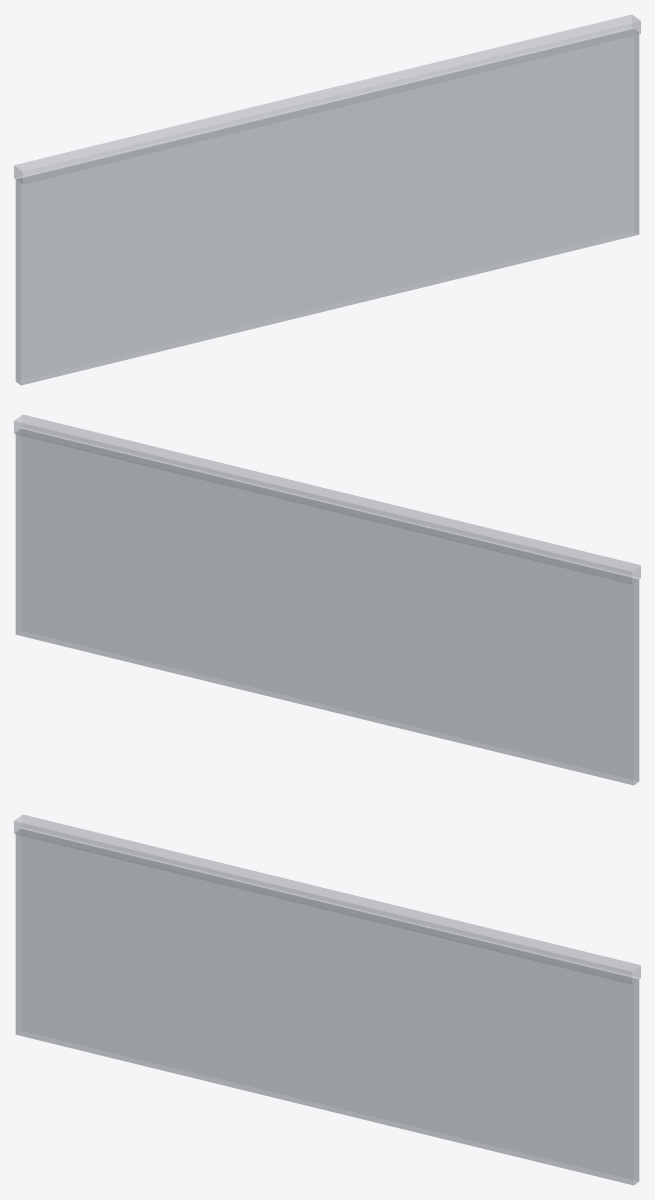
Rendered from rink_glass_straight_4x4.glb.
3 views of the same model, one above another, from view 1: azimuth 30°, elevation 25°; view 2: azimuth 150°, elevation 25°; view 3: azimuth 330°, elevation 25° (orthographic).
Visible parts, largest first — view 1: rink_glass_straight_4x4; view 2: rink_glass_straight_4x4; view 3: rink_glass_straight_4x4.
Boxes of the visible parts, box(x1,y1,x2,y2) form: rink_glass_straight_4x4: box(14, 14, 640, 385); rink_glass_straight_4x4: box(14, 414, 640, 785); rink_glass_straight_4x4: box(14, 814, 640, 1185).
Bounding box in the file's own units: 4 × 1.33 × 0.1.
1 material, 1 textured.
